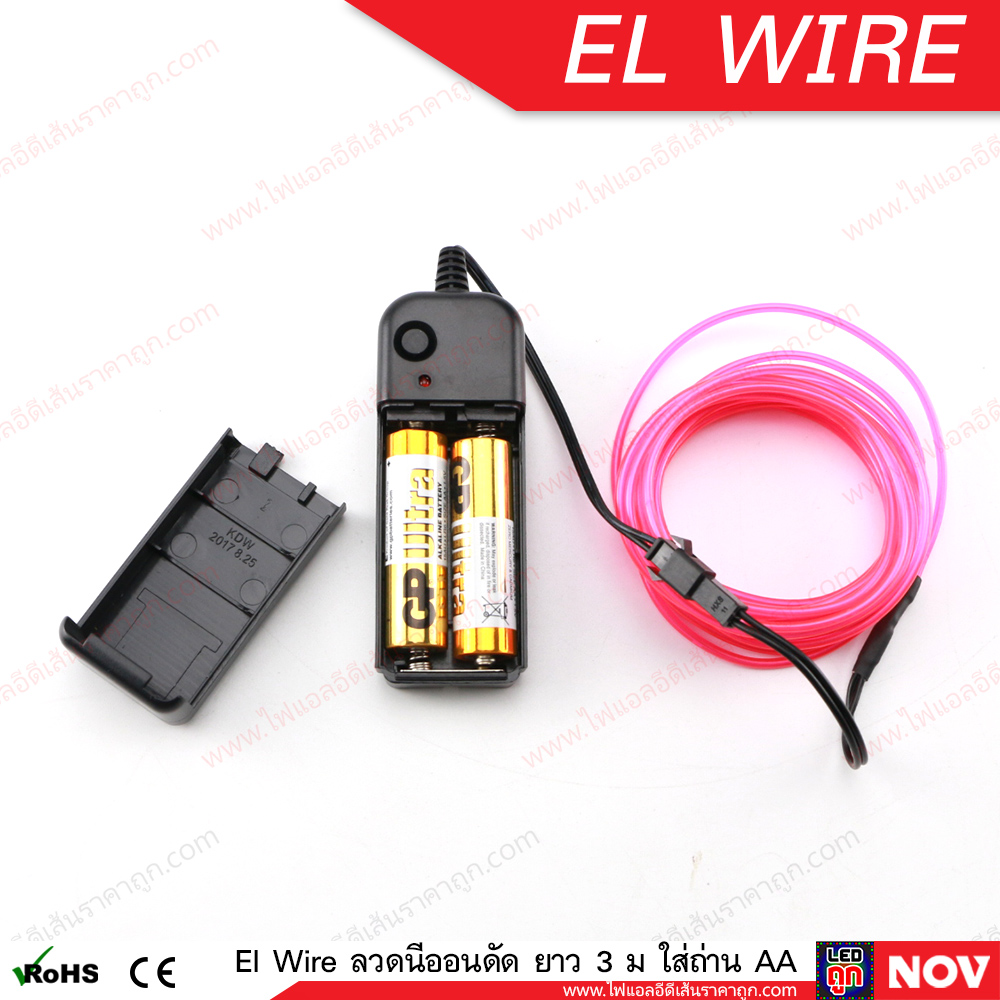Battery: (449, 432, 521, 667), (383, 426, 453, 655)
